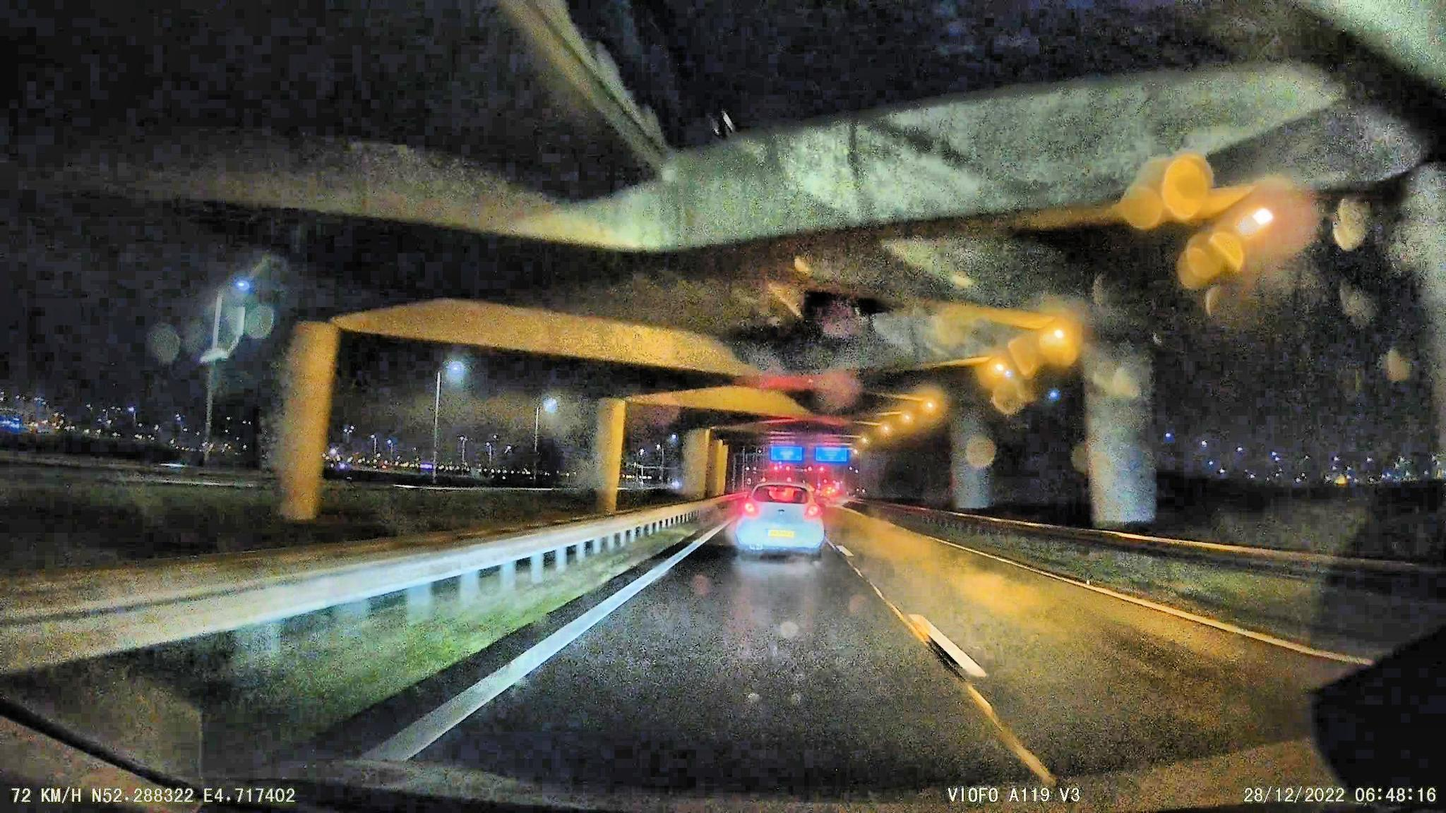Roads: (360, 513, 1334, 795)
